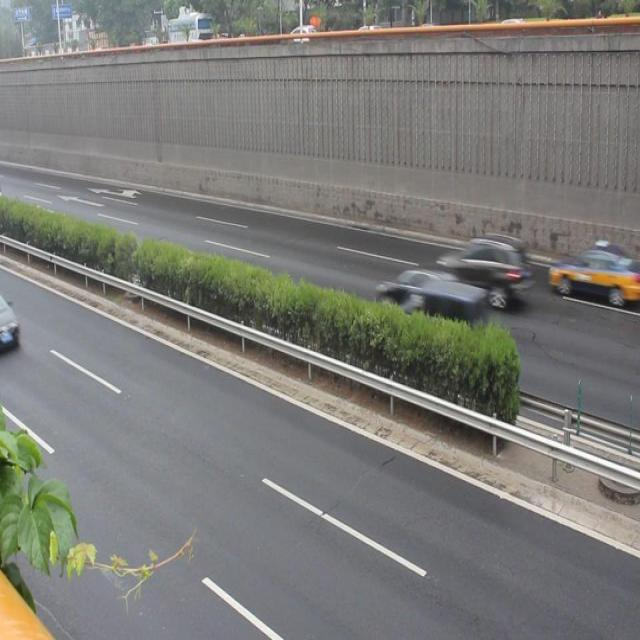car: (379, 255, 494, 359), (438, 224, 536, 314), (552, 240, 630, 318)
